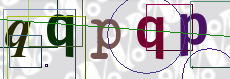p: (88, 16, 123, 62), (177, 12, 208, 58)
q: (45, 11, 77, 60), (135, 14, 167, 61), (2, 16, 31, 60)
